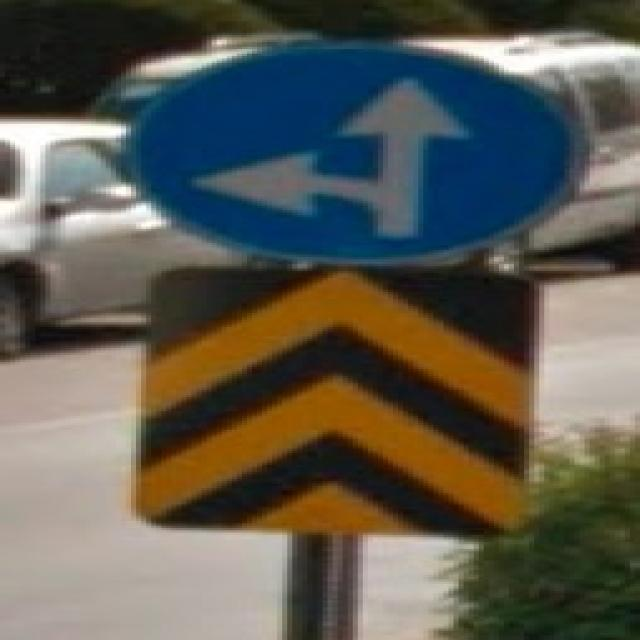Straight or Left: (124, 42, 578, 266)
